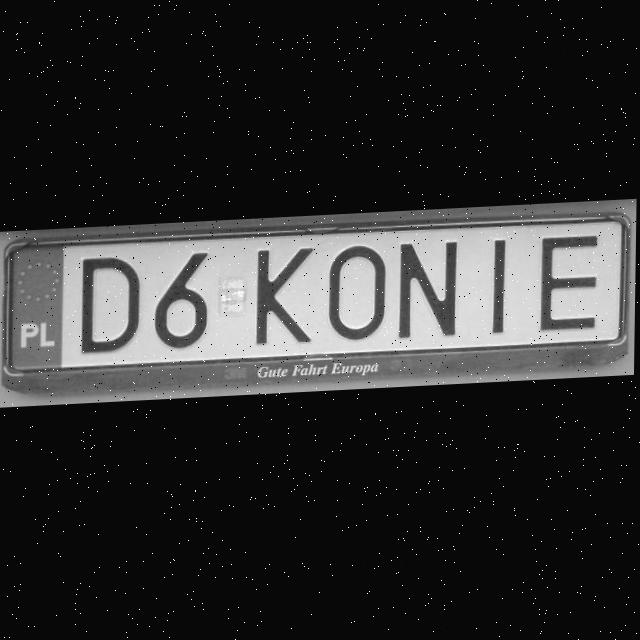license-plates: (7, 218, 627, 373)
